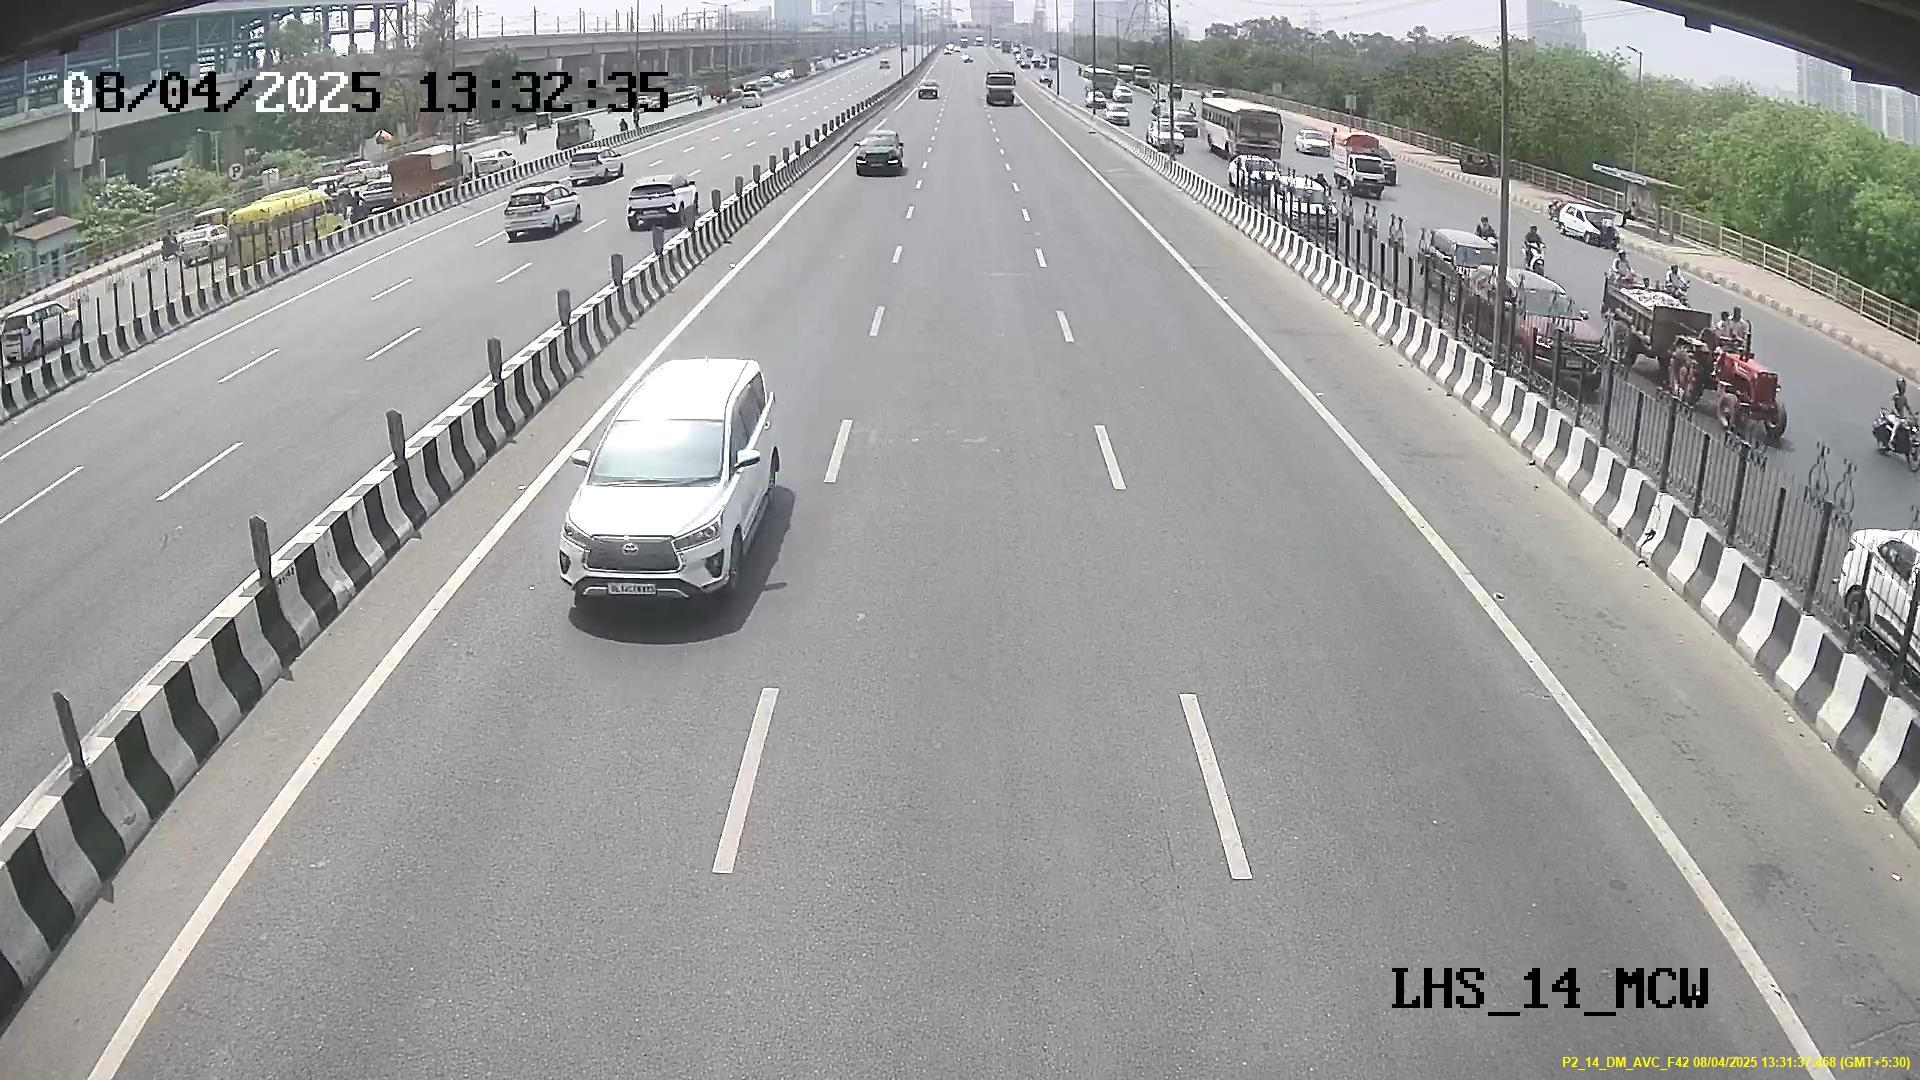car: (554, 397, 756, 616)
